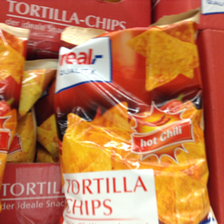chips: (57, 24, 213, 224)
